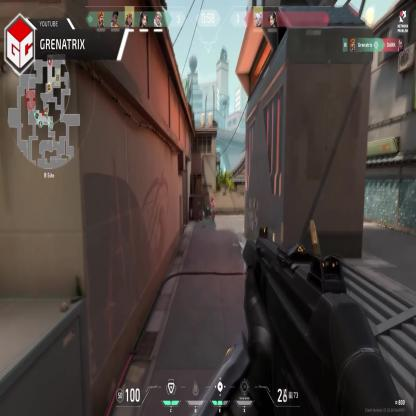enemy: (210, 195, 215, 221)
enemy_head: (211, 198, 214, 203)
